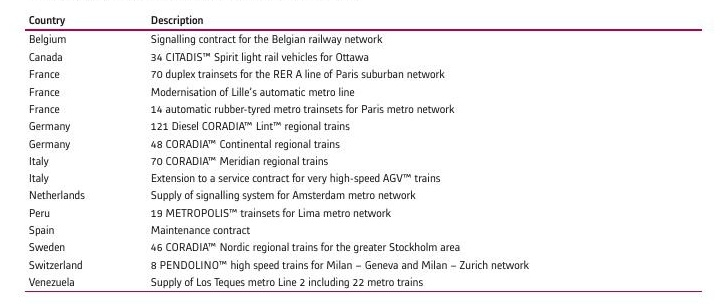table: (0, 0, 723, 304)
